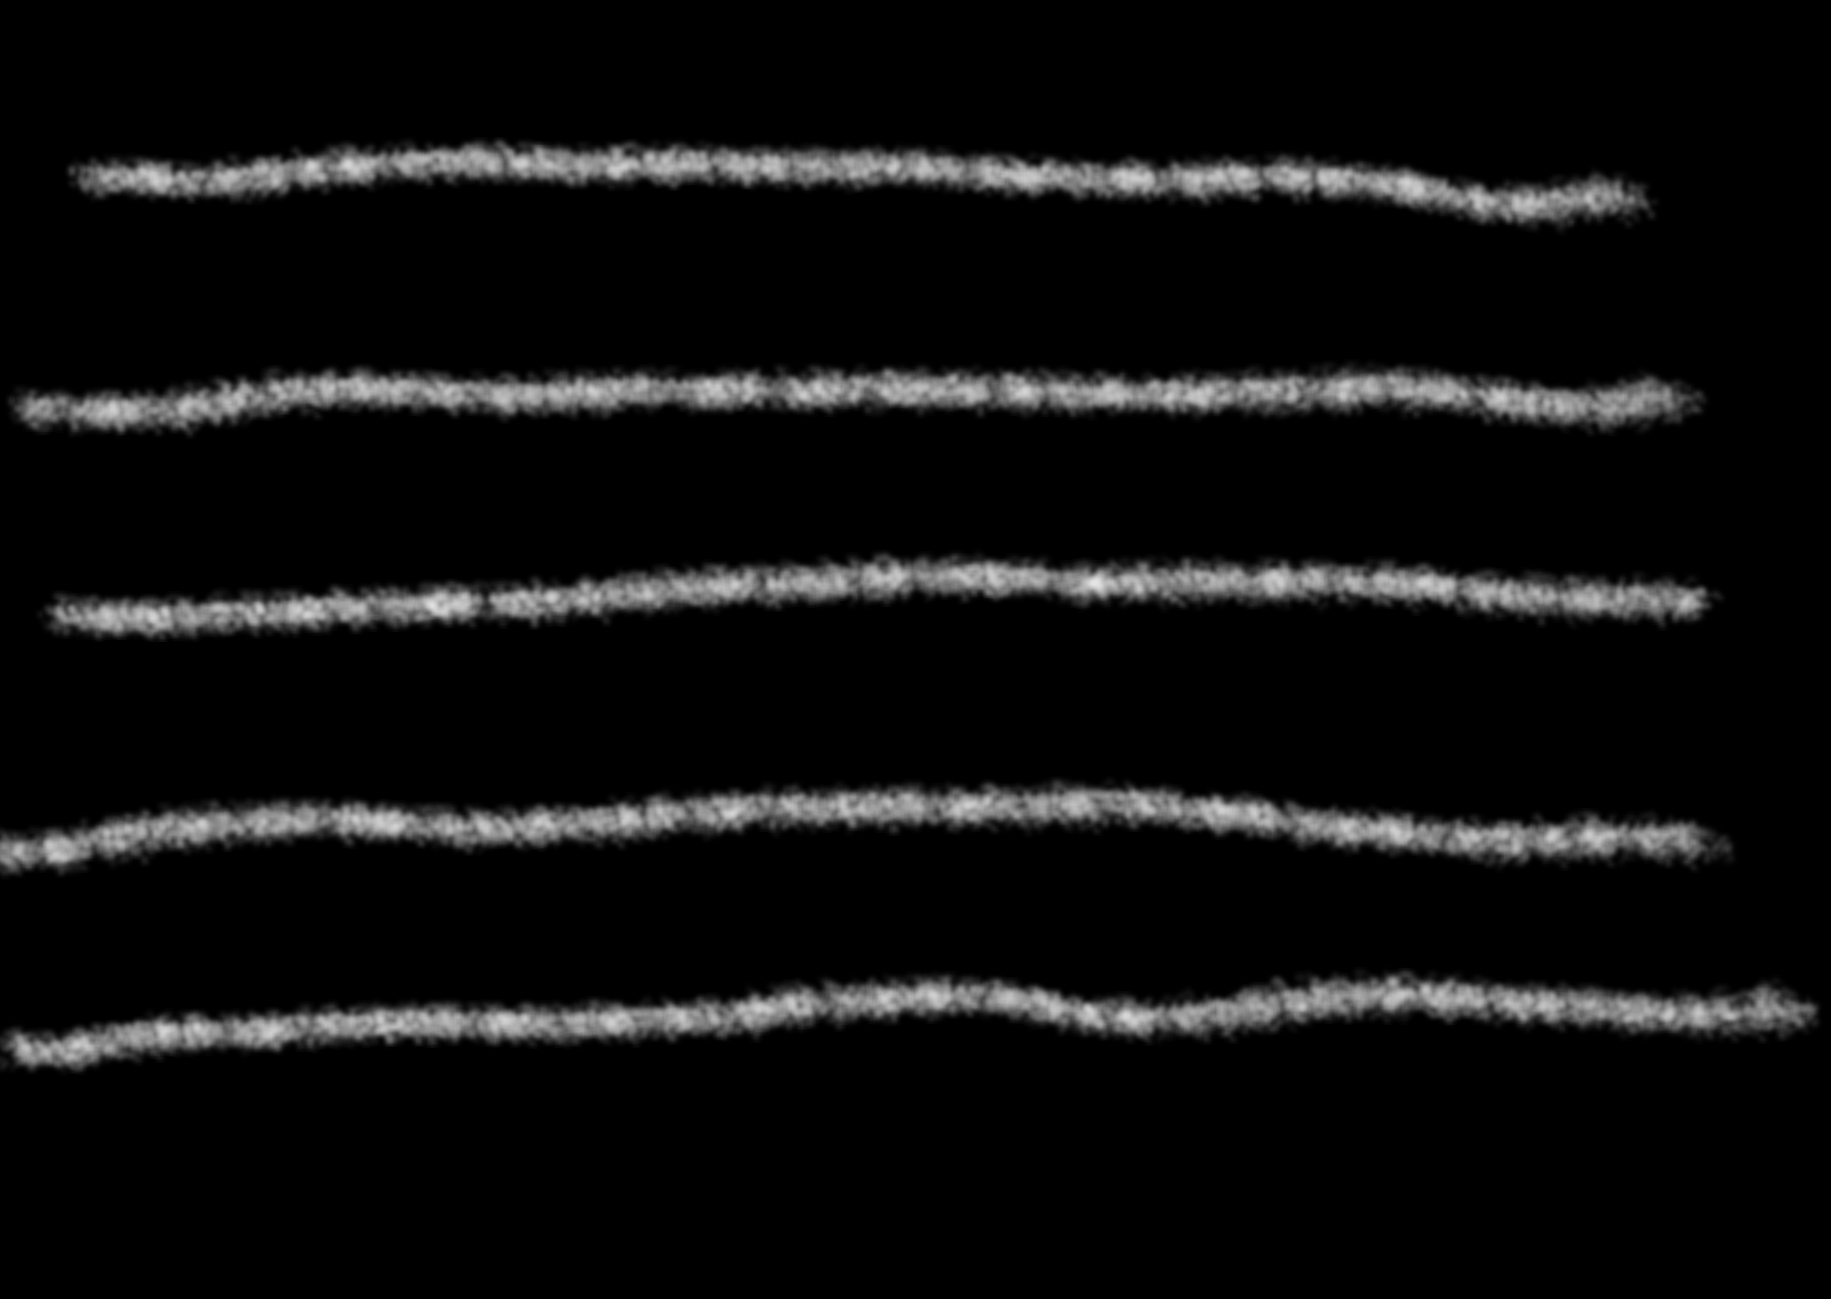Laminar flow: (44, 93, 1804, 1120)
